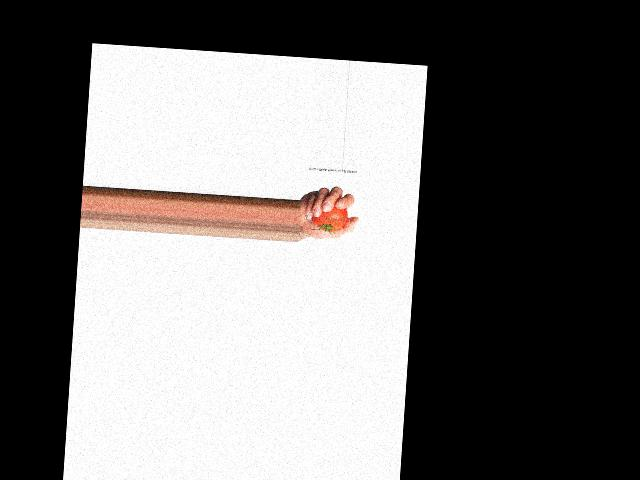tomato: (311, 205, 348, 232)
